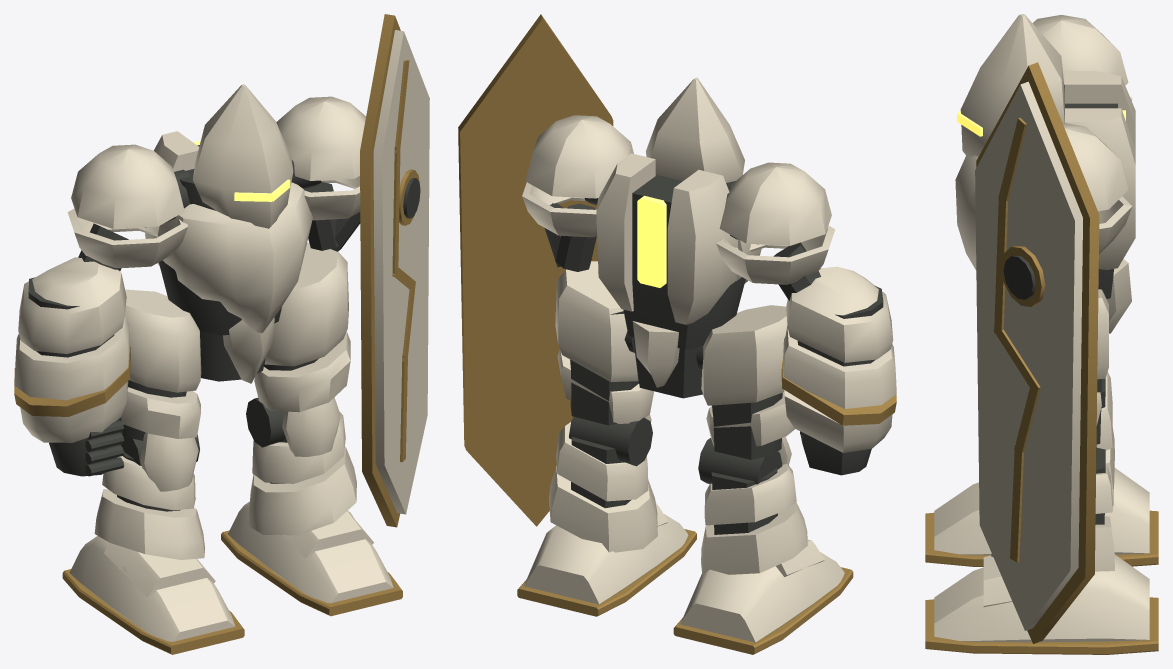
Rendered from banki_shield.glb.
The picture shows the model from 3 angles, left to right: view 1: azimuth 30°, elevation 25°; view 2: azimuth 150°, elevation 25°; view 3: azimuth 270°, elevation 25°; orthographic projection. The views are drawn at different scales.
Visible parts, largest first — view 1: body, shield, forearm_r, thigh_l, shin_l, shield_brass, shin_r, foot_r, thigh_r, head, foot_l, body_dark (+7 smaller); view 2: shield_brass, body, forearm_r, foot_r, body_dark, thigh_r, shin_l, thigh_l, shin_r, foot_l, head, shin_l_dark (+9 smaller); view 3: shield, body, shield_brass, foot_l, head, foot_r, foot_l_brass, foot_r_brass, shin_l, shin_r, shield_dark, thigh_l (+2 smaller).
Part boxes in pixels (bbox=[...]): body: bbox=[67, 96, 365, 383]; shield: bbox=[373, 30, 429, 514]; forearm_r: bbox=[14, 257, 129, 442]; thigh_l: bbox=[254, 242, 350, 412]; shin_l: bbox=[248, 397, 356, 535]; shield_brass: bbox=[360, 14, 419, 527]; shin_r: bbox=[94, 432, 204, 559]; foot_r: bbox=[69, 536, 235, 641]; thigh_r: bbox=[121, 289, 201, 438]; head: bbox=[193, 84, 293, 228]; foot_l: bbox=[228, 501, 393, 603]; body_dark: bbox=[145, 145, 360, 381]; shield_brass: bbox=[458, 14, 613, 526]; body: bbox=[522, 115, 835, 387]; forearm_r: bbox=[783, 266, 896, 452]; foot_r: bbox=[680, 539, 844, 642]; body_dark: bbox=[544, 175, 758, 398]; thigh_r: bbox=[701, 305, 794, 446]; shin_l: bbox=[549, 414, 657, 552]; thigh_l: bbox=[555, 261, 653, 423]; shin_r: bbox=[701, 436, 807, 574]; foot_l: bbox=[524, 503, 688, 604]; head: bbox=[646, 77, 744, 182]; shin_l_dark: bbox=[569, 417, 652, 508]; shield: bbox=[975, 81, 1082, 630]; body: bbox=[955, 15, 1135, 333]; shield_brass: bbox=[976, 62, 1099, 643]; foot_l: bbox=[934, 554, 1149, 642]; head: bbox=[960, 14, 1064, 156]; foot_r: bbox=[934, 468, 1149, 555]; foot_l_brass: bbox=[925, 597, 1158, 654]; foot_r_brass: bbox=[925, 510, 1158, 566]; shin_l: bbox=[991, 465, 1114, 571]; shin_r: bbox=[1096, 372, 1114, 506]; shield_dark: bbox=[1003, 255, 1035, 299]; thigh_l: bbox=[1096, 289, 1108, 425].
Bounding box in the file's own units: 1.54 × 1.89 × 0.66.
